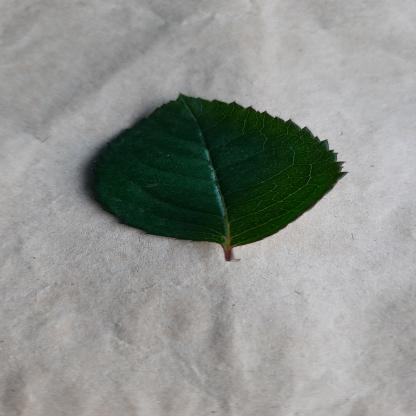normal: (85, 92, 354, 246)
